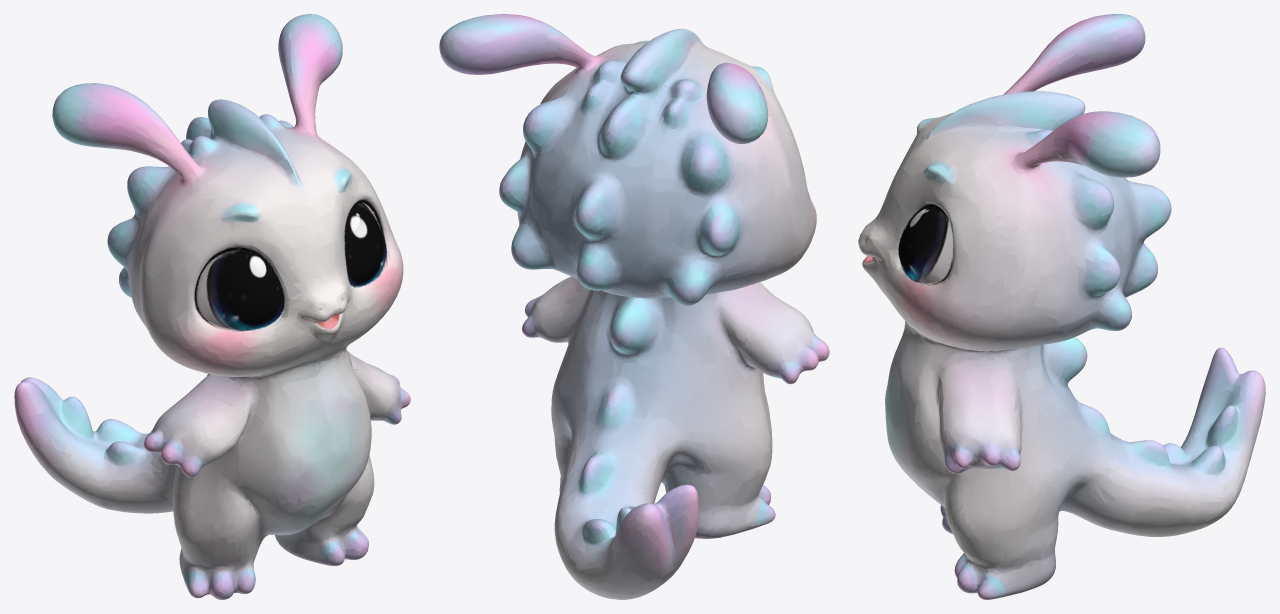
File: form-03.glb
3 views of the same model, side by side, from view 1: azimuth 30°, elevation 25°; view 2: azimuth 150°, elevation 25°; view 3: azimuth 270°, elevation 25° (orthographic). The views are drawn at different scales.
Bounding box in the file's own units: 1.2 × 1.9 × 1.44.
1 material, 1 textured.
